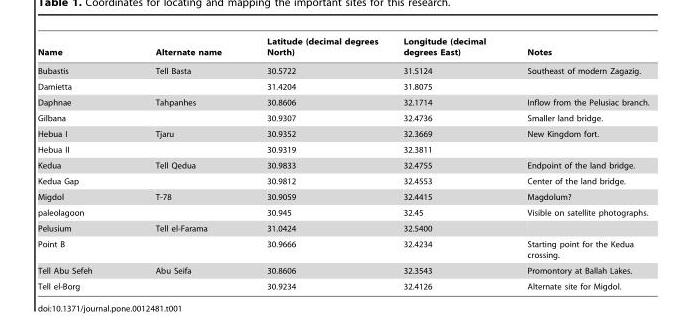table: (37, 36, 648, 290)
table column: (243, 36, 390, 290), (505, 36, 648, 290), (123, 36, 243, 290), (390, 36, 505, 290), (37, 36, 123, 290)
table column header: (37, 36, 648, 61)
table row: (37, 236, 648, 262), (37, 36, 648, 61), (37, 61, 648, 78), (37, 78, 648, 94), (37, 94, 648, 110), (37, 125, 648, 141), (37, 141, 648, 157), (37, 157, 648, 173), (37, 188, 648, 204), (37, 204, 648, 220), (37, 220, 648, 236), (37, 262, 648, 278), (37, 110, 648, 125), (37, 173, 648, 188), (37, 278, 648, 290)
